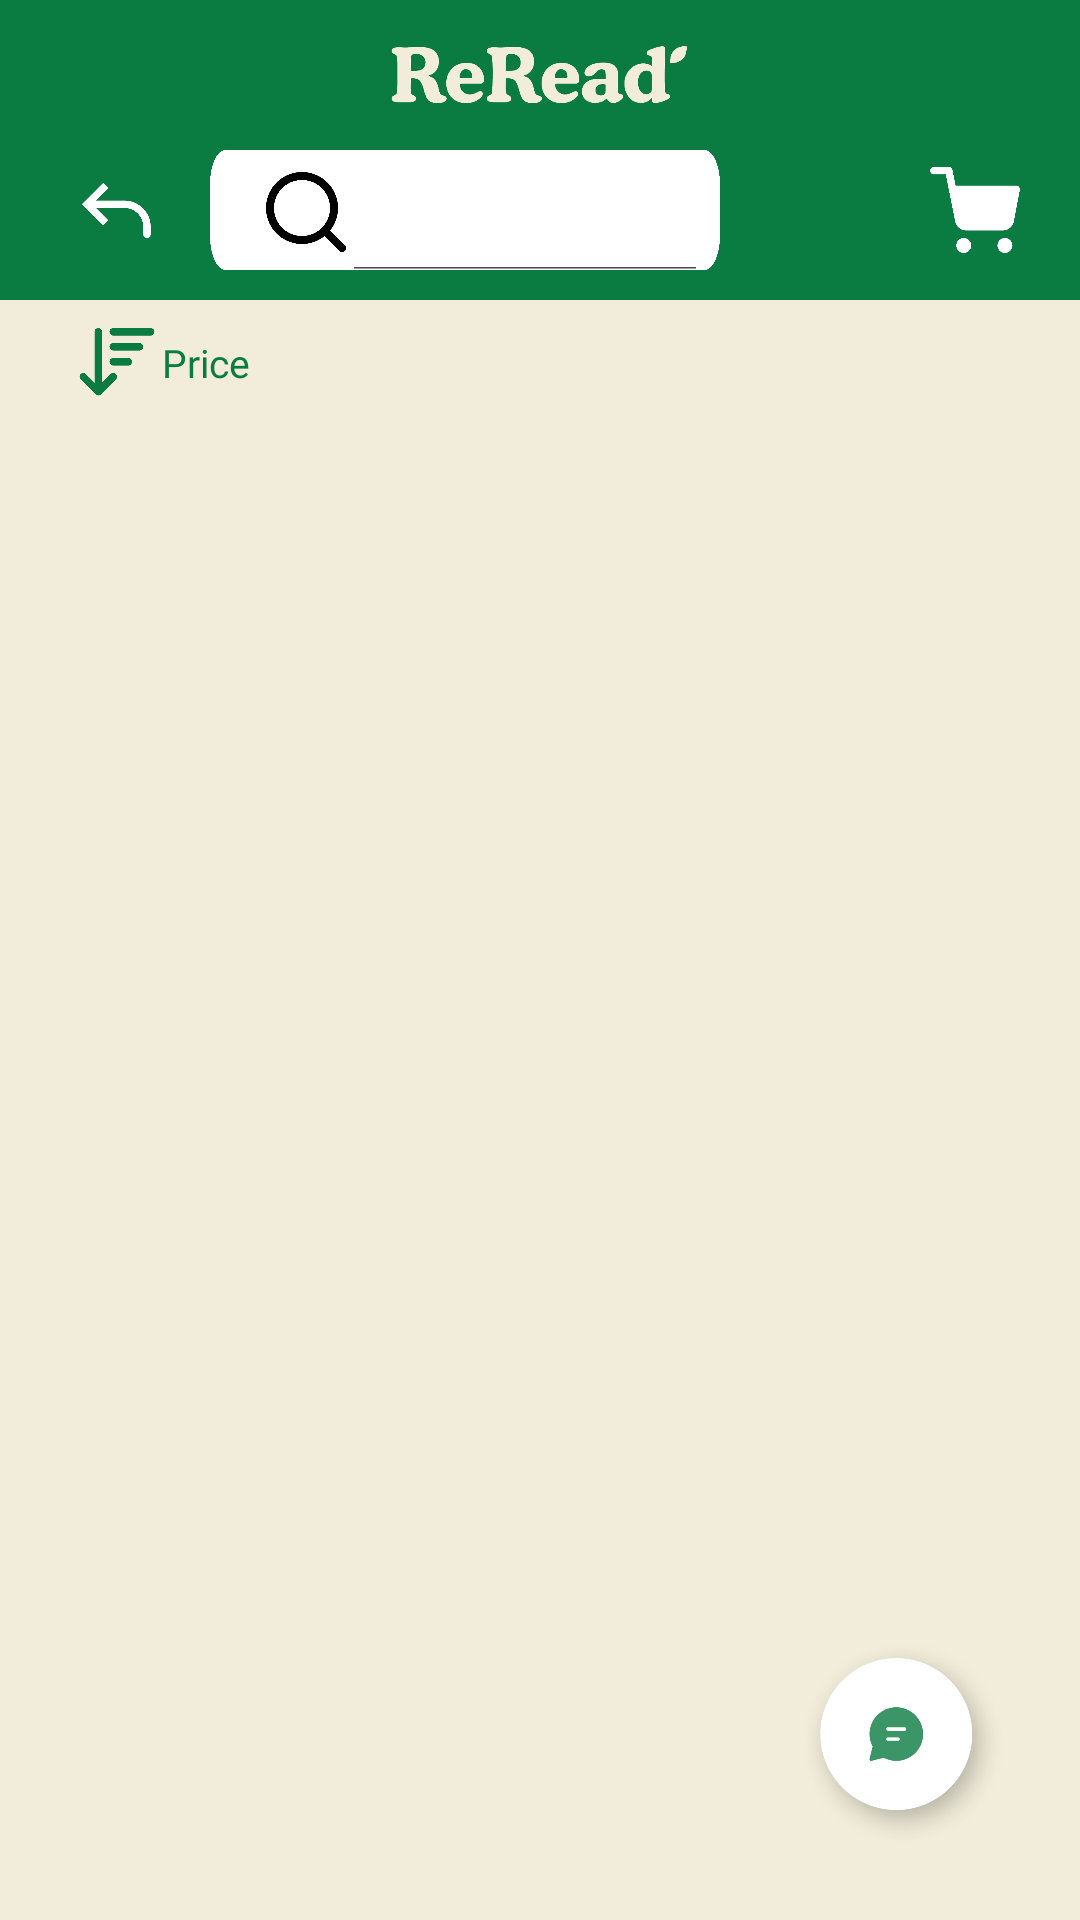

Point at icon controls on the screen. Image size 1080px×1920px, points as (x,y).
back: (116,210)
cart: (975,210)
chatbot: (901,1739)
